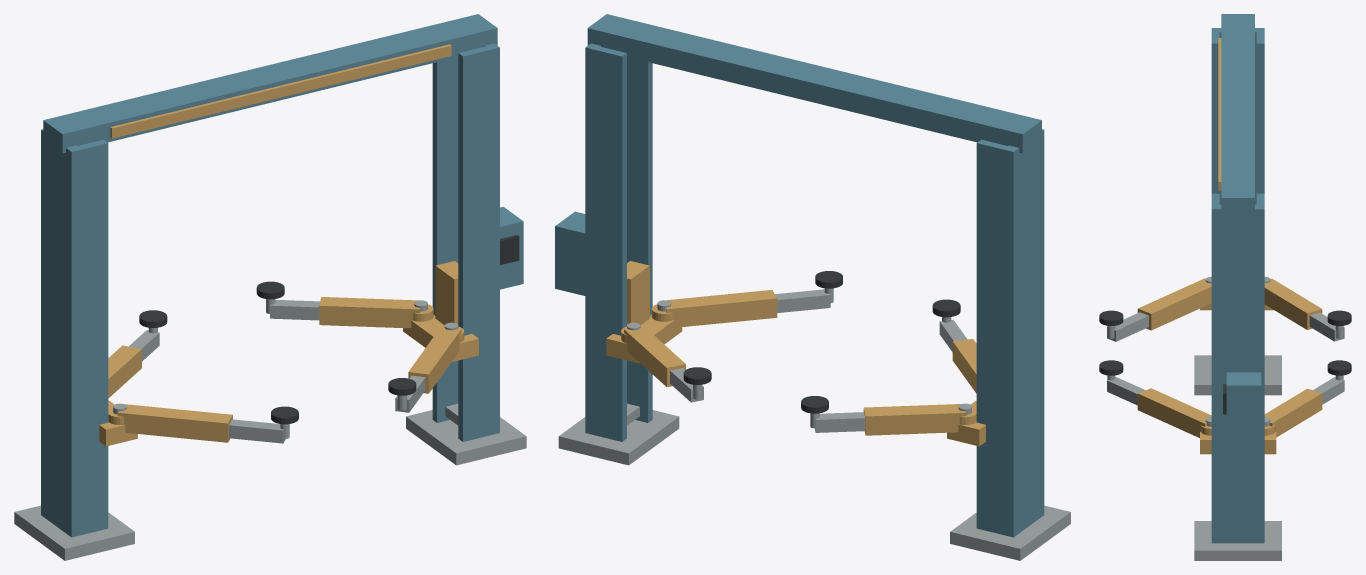
3 renders of one model, left to right at view 1: azimuth 30°, elevation 25°; view 2: azimuth 150°, elevation 25°; view 3: azimuth 270°, elevation 25°, orthographic. The views are drawn at different scales.
Parts seen in each view (by area): view 1: WholeInwardOpenColumn_-1, WholeInwardOpenColumn_1, WholeHighCrosshead, WholeHighInsetCrossheadFace, WholeGroundFootColumnPlate_1, WholeOpenOuterArmSleeve_(-1, -1), WholeGroundFootColumnPlate_-1, WholeOpenOuterArmSleeve_(1, 1), WholeOpenOuterArmSleeve_(1, -1), WholeFixedSideGuideCarriage_1, WholeSideServiceCase, WholeOpenOuterArmSleeve_(-1, 1) (+4 smaller); view 2: WholeInwardOpenColumn_-1, WholeInwardOpenColumn_1, WholeHighCrosshead, WholeGroundFootColumnPlate_1, WholeOpenOuterArmSleeve_(1, -1), WholeGroundFootColumnPlate_-1, WholeOpenOuterArmSleeve_(-1, 1), WholeSideServiceCase, WholeOpenOuterArmSleeve_(1, 1), WholeFixedSideGuideCarriage_1, WholeArmBearingSaddle_1, WholeInnerArmExtension_(1, -1) (+3 smaller); view 3: WholeInwardOpenColumn_1, WholeHighCrosshead, WholeInwardOpenColumn_-1, WholeSideServiceCase, WholeGroundFootColumnPlate_1, WholeOpenOuterArmSleeve_(-1, -1), WholeOpenOuterArmSleeve_(1, -1), WholeOpenOuterArmSleeve_(-1, 1), WholeOpenOuterArmSleeve_(1, 1), WholeGroundFootColumnPlate_-1, WholeInnerArmExtension_(-1, -1), WholeHighInsetCrossheadFace (+8 smaller).
Part boxes in pixels (bbox=[...]): WholeInwardOpenColumn_-1: bbox=[41, 129, 108, 537]; WholeInwardOpenColumn_1: bbox=[432, 43, 499, 441]; WholeHighCrosshead: bbox=[43, 14, 497, 153]; WholeHighInsetCrossheadFace: bbox=[110, 44, 451, 138]; WholeGroundFootColumnPlate_1: bbox=[406, 410, 526, 465]; WholeOpenOuterArmSleeve_(-1, -1): bbox=[117, 404, 232, 442]; WholeGroundFootColumnPlate_-1: bbox=[14, 505, 134, 560]; WholeOpenOuterArmSleeve_(1, 1): bbox=[319, 297, 420, 328]; WholeOpenOuterArmSleeve_(1, -1): bbox=[408, 326, 461, 393]; WholeFixedSideGuideCarriage_1: bbox=[435, 261, 458, 324]; WholeSideServiceCase: bbox=[500, 206, 523, 289]; WholeOpenOuterArmSleeve_(-1, 1): bbox=[108, 345, 141, 398]; WholeInwardOpenColumn_-1: bbox=[976, 129, 1044, 537]; WholeInwardOpenColumn_1: bbox=[585, 43, 652, 441]; WholeHighCrosshead: bbox=[587, 14, 1041, 153]; WholeGroundFootColumnPlate_1: bbox=[558, 410, 679, 465]; WholeOpenOuterArmSleeve_(1, -1): bbox=[666, 290, 777, 327]; WholeGroundFootColumnPlate_-1: bbox=[950, 505, 1070, 560]; WholeOpenOuterArmSleeve_(-1, 1): bbox=[863, 404, 966, 435]; WholeSideServiceCase: bbox=[555, 211, 585, 295]; WholeOpenOuterArmSleeve_(1, 1): bbox=[624, 325, 685, 386]; WholeFixedSideGuideCarriage_1: bbox=[627, 261, 649, 324]; WholeArmBearingSaddle_1: bbox=[606, 315, 682, 363]; WholeInnerArmExtension_(1, -1): bbox=[775, 289, 830, 312]; WholeInwardOpenColumn_1: bbox=[1211, 193, 1264, 543]; WholeHighCrosshead: bbox=[1221, 14, 1254, 214]; WholeInwardOpenColumn_-1: bbox=[1211, 28, 1264, 204]; WholeSideServiceCase: bbox=[1226, 372, 1261, 439]; WholeGroundFootColumnPlate_1: bbox=[1194, 521, 1281, 560]; WholeOpenOuterArmSleeve_(-1, -1): bbox=[1137, 278, 1211, 330]; WholeOpenOuterArmSleeve_(1, -1): bbox=[1137, 388, 1211, 437]; WholeOpenOuterArmSleeve_(-1, 1): bbox=[1264, 278, 1322, 329]; WholeOpenOuterArmSleeve_(1, 1): bbox=[1264, 388, 1322, 437]; WholeGroundFootColumnPlate_-1: bbox=[1194, 355, 1281, 395]; WholeInnerArmExtension_(-1, -1): bbox=[1107, 312, 1148, 341]; WholeHighInsetCrossheadFace: bbox=[1218, 38, 1221, 190].
Bounding box in the file's own units: 4.14 × 3.42 × 2.19.
